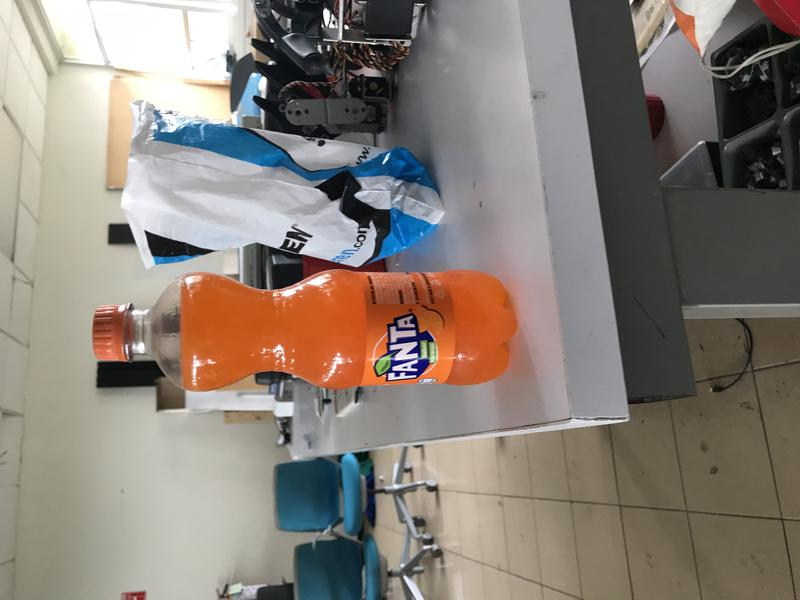fanta: (92, 269, 517, 391)
